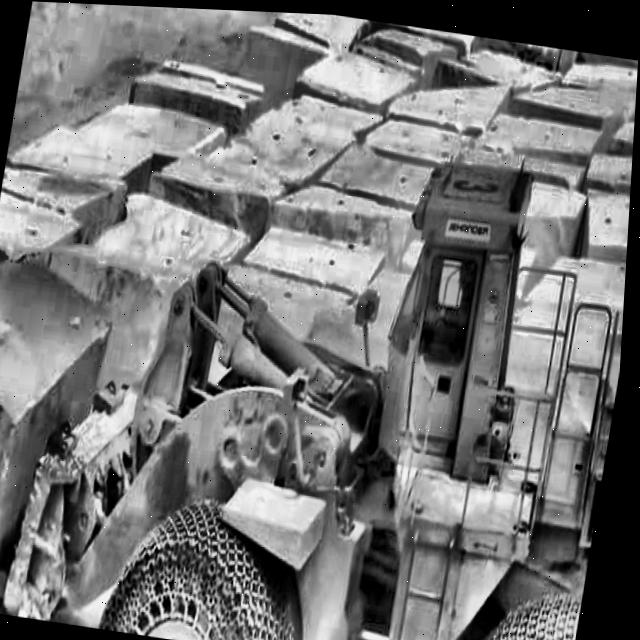buldozerpayloadergrader: (0, 56, 637, 640)
